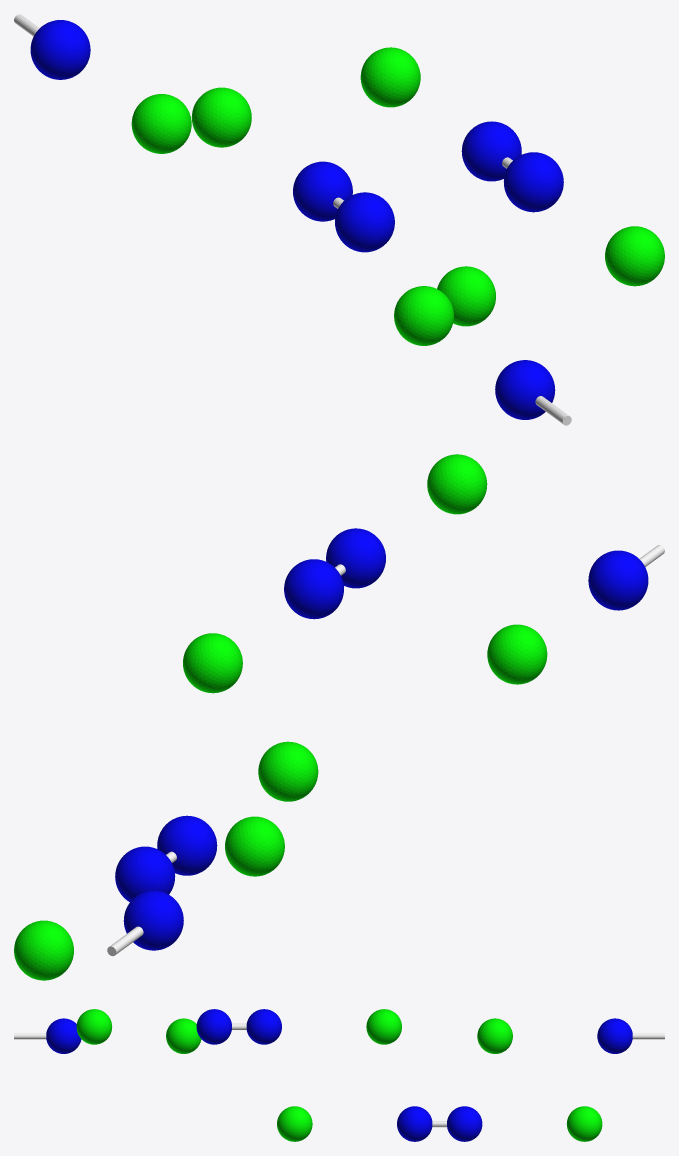
File: structure_mpstyle.glb
The picture shows the model from 3 angles, top to bottom: view 1: azimuth 30°, elevation 25°; view 2: azimuth 150°, elevation 25°; view 3: azimuth 270°, elevation 25°; orthographic projection. The views are drawn at different scales.
Visible parts, largest first — view 1: world; view 2: world; view 3: world.
Part boxes in pixels (<box>): world: <box>14,14,664,425</box>; world: <box>14,454,664,980</box>; world: <box>14,1009,664,1141</box>.
Size of the model in its own units: 2.88 by 3.21 by 14.61.
